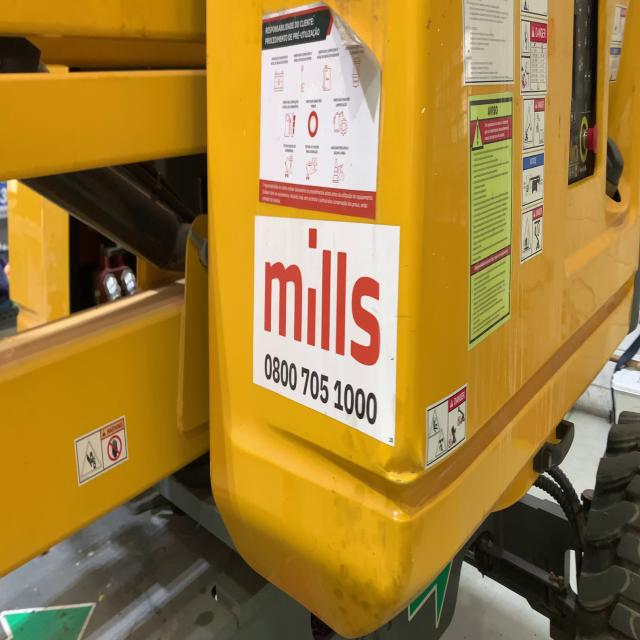Adesivos: (251, 212, 402, 451)
